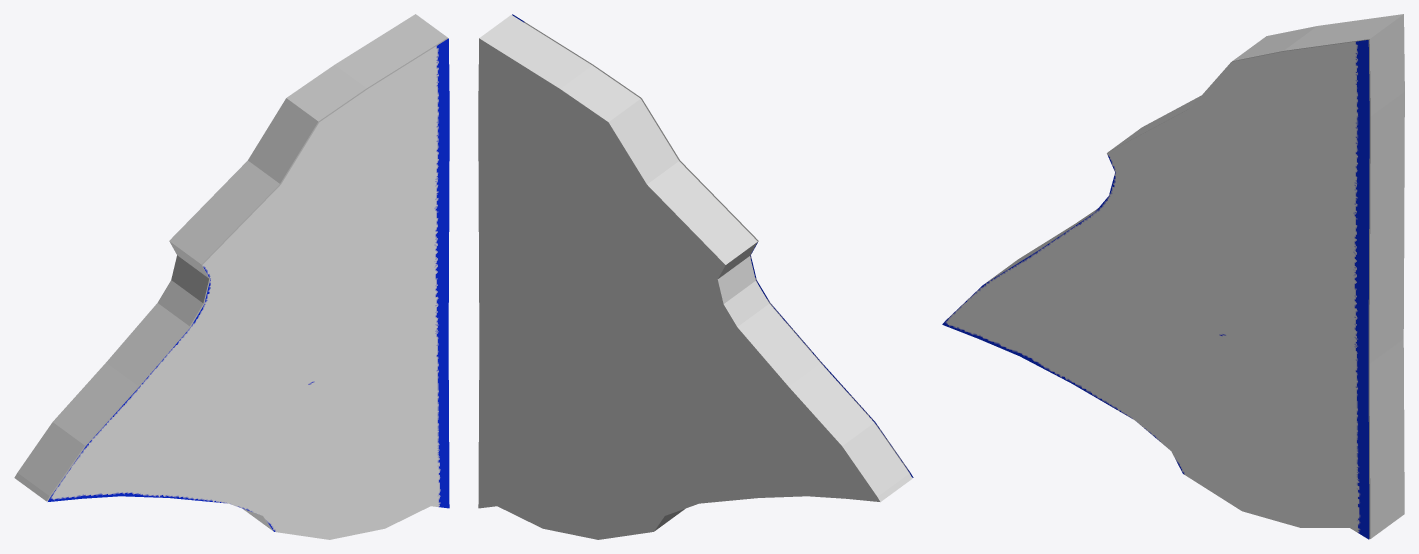
3 views of the same model, side by side, from view 1: azimuth 30°, elevation 25°; view 2: azimuth 150°, elevation 25°; view 3: azimuth 330°, elevation 25° (orthographic). The views are drawn at different scales.
Visible parts, largest first — view 1: Out_3_1, Out_3_0; view 2: Out_3_0, Out_3_1; view 3: Out_3_1, Out_3_0.
Part boxes in pixels (x1,y1,x2,y2): Out_3_1: (48,38,449,539); Out_3_0: (14,14,447,531); Out_3_0: (478,15,912,539); Out_3_1: (512,14,913,477); Out_3_1: (942,40,1369,539); Out_3_0: (985,14,1404,538).
Bounding box in the file's own units: 3.61 × 4.07 × 0.515.
2 materials, 1 textured.
